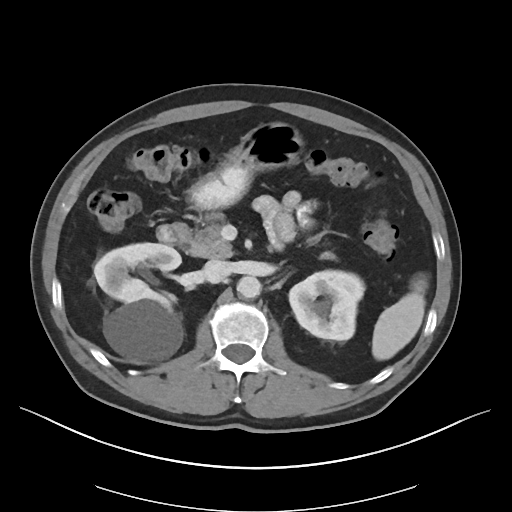Lesion: (98, 289, 186, 366)
